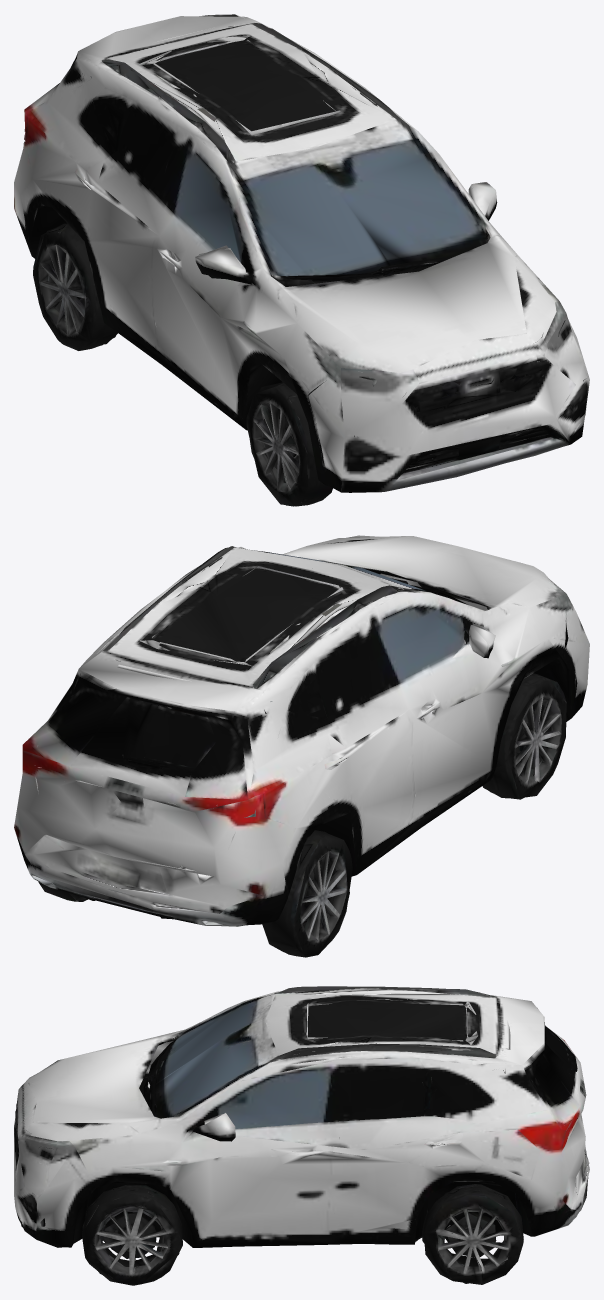
File: car_suv.glb
3 renders of one model, top to bottom at view 1: azimuth 30°, elevation 25°; view 2: azimuth 150°, elevation 25°; view 3: azimuth 270°, elevation 25°, orthographic. The views are drawn at different scales.
Visible parts, largest first — view 1: world; view 2: world; view 3: world.
Part boxes in pixels (<box>): world: <box>14,14,589,506</box>; world: <box>14,535,589,957</box>; world: <box>14,986,589,1285</box>.
Bounding box in the file's own units: 0.4678 × 0.4247 × 0.9983.
Materials: 1 (1 with a texture image).
